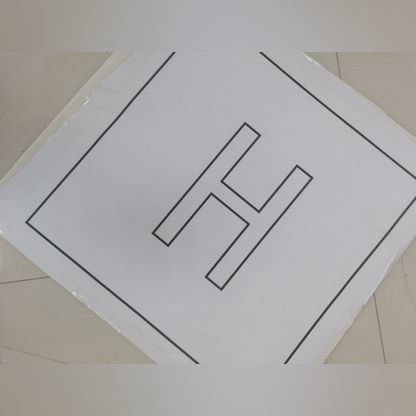H: (141, 109, 333, 294)
